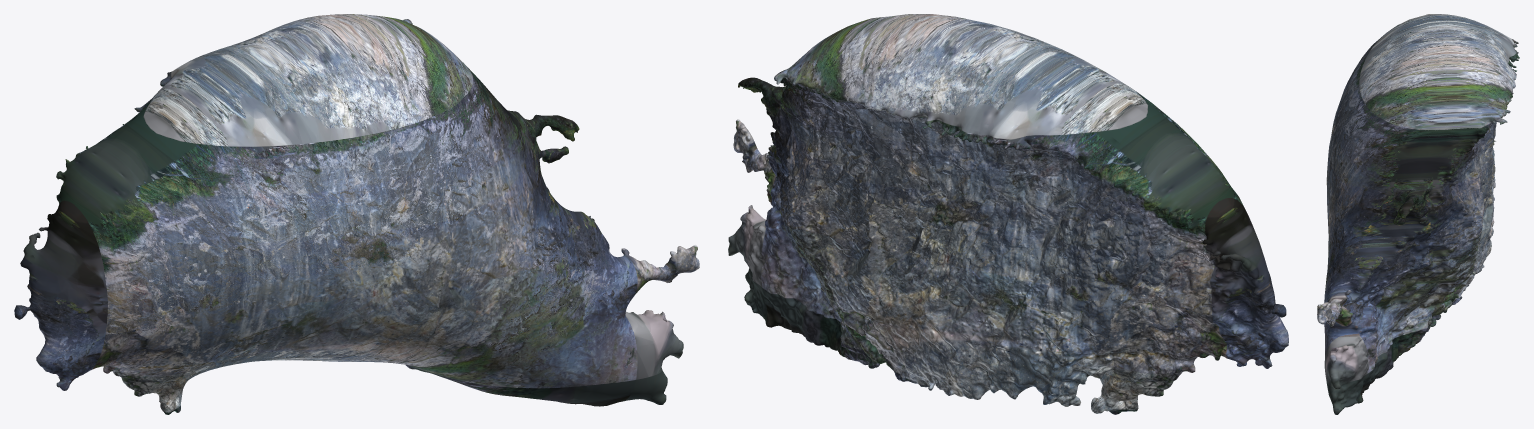
Rendered from korno_v2_desmudged_light.glb.
The picture shows the model from 3 angles, left to right: view 1: azimuth 30°, elevation 25°; view 2: azimuth 150°, elevation 25°; view 3: azimuth 270°, elevation 25°; orthographic projection. The views are drawn at different scales.
Parts seen in each view (by area): view 1: geometry_0; view 2: geometry_0; view 3: geometry_0.
Part boxes in pixels (x1,y1,x2,y2): geometry_0: (14,14,699,414); geometry_0: (728,14,1288,414); geometry_0: (1317,14,1519,414).
Bounding box in the file's own units: 18.73 × 11.33 × 7.45.
1 material, 1 textured.
